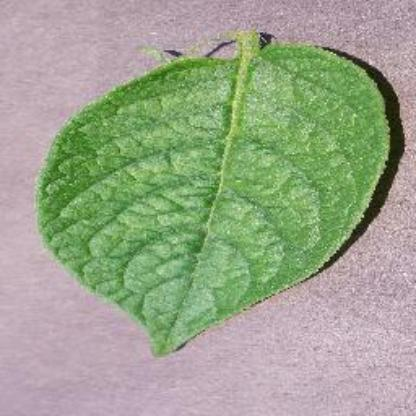Healthy-plant: (32, 32, 398, 356)
